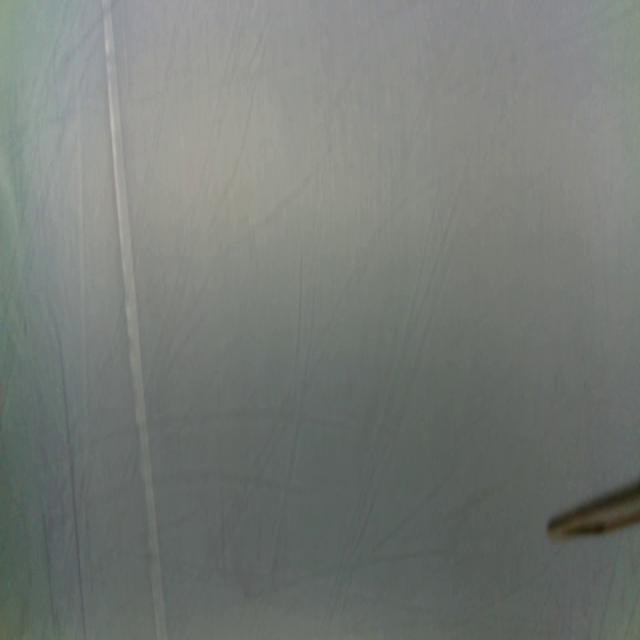crease: (103, 0, 167, 640), (60, 351, 87, 637), (40, 512, 57, 640)
